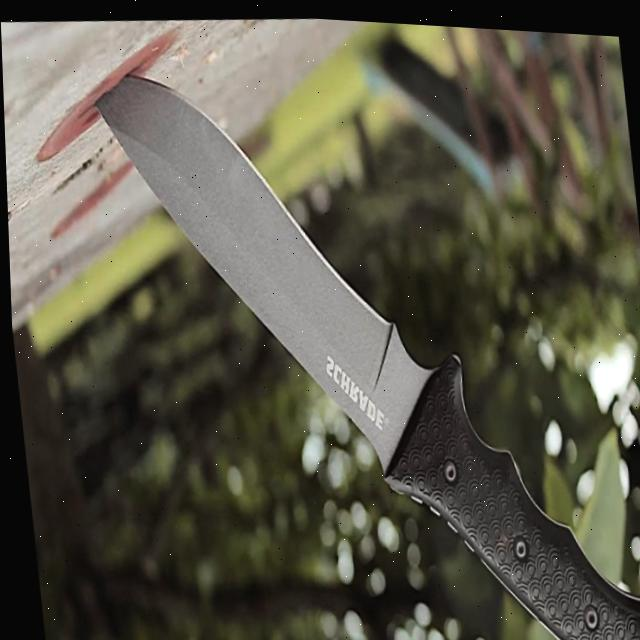knife: (86, 55, 640, 640)
